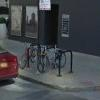Bicycle: (18, 38, 66, 78)
